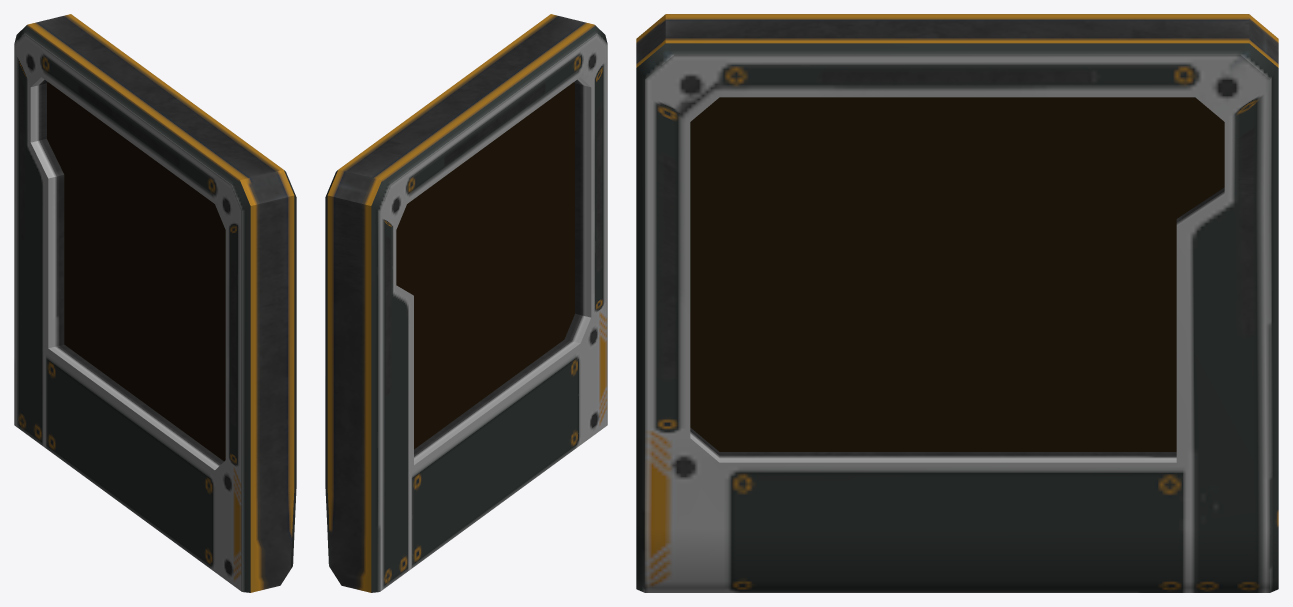
The model's file is MainDoor.glb.
3 renders of one model, left to right at view 1: azimuth 30°, elevation 25°; view 2: azimuth 150°, elevation 25°; view 3: azimuth 270°, elevation 25°, orthographic. The views are drawn at different scales.
Visible parts, largest first — view 1: door_scifi_BS.001; view 2: door_scifi_BS.001; view 3: door_scifi_BS.001.
Part boxes in pixels (x1,y1,x2,y2): door_scifi_BS.001: (14, 14, 296, 592); door_scifi_BS.001: (325, 14, 607, 592); door_scifi_BS.001: (636, 14, 1278, 592).
Size of what is drawn, in the model's own units: 0.4332 by 3.06 by 3.21.
Materials: 1 (1 with a texture image).
